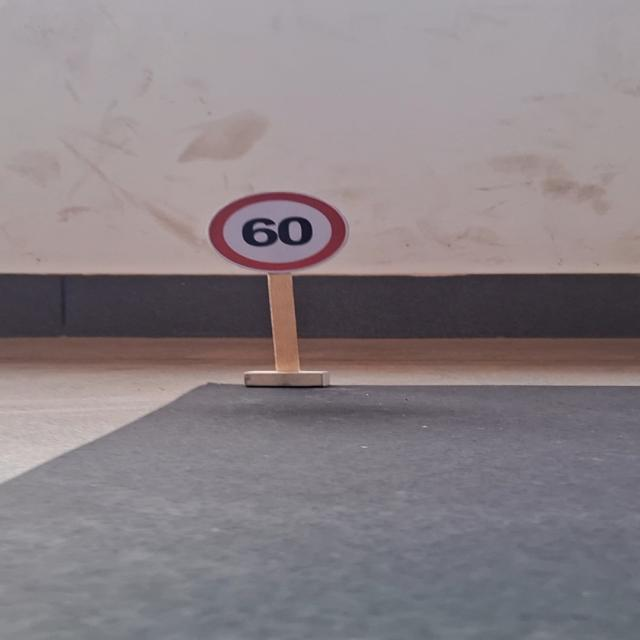Speed60: (203, 190, 354, 274)
